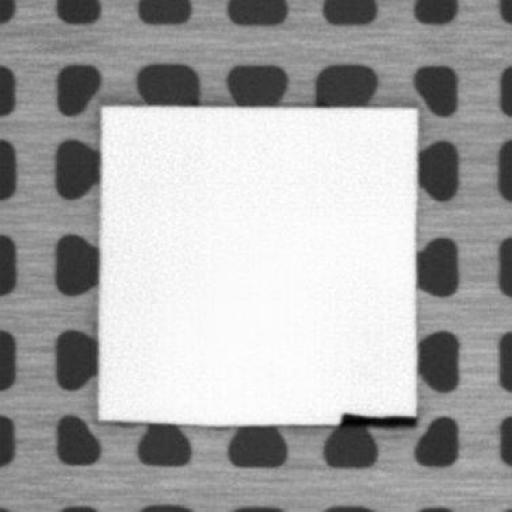DIE_BROKEN: (334, 408, 416, 427)
